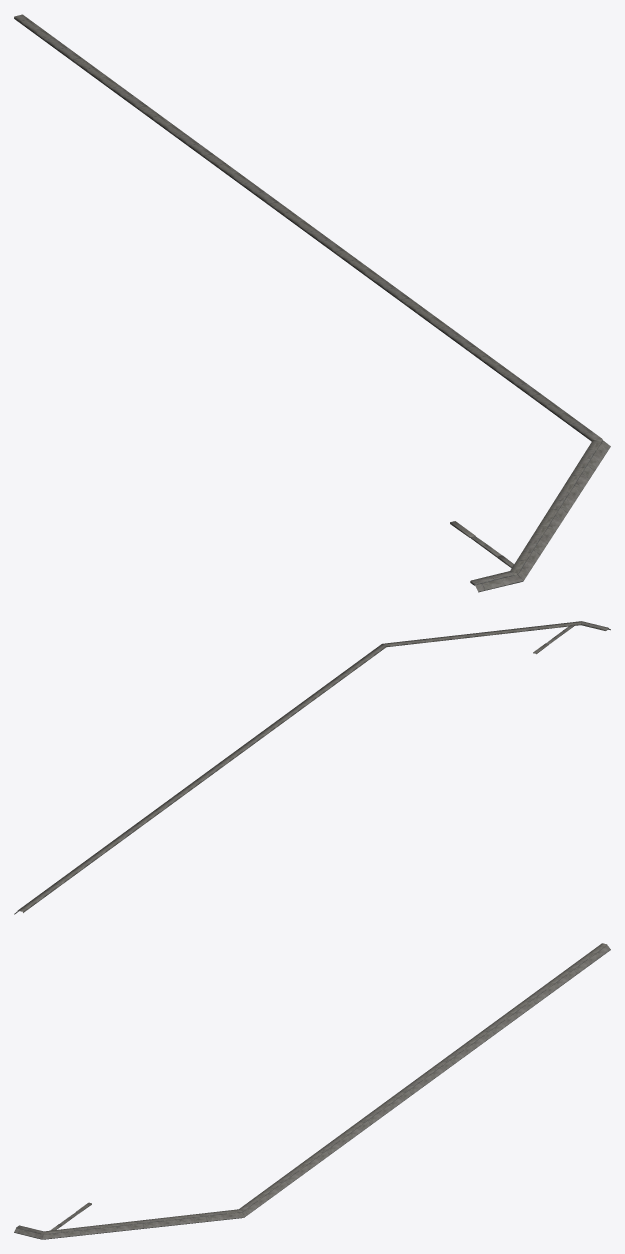
File: SM_ENV_LKNVLD_Ground_Hill_Right_HillSideTrim_03.FBX
3 views of the same model, one above another, from view 1: azimuth 30°, elevation 25°; view 2: azimuth 150°, elevation 25°; view 3: azimuth 330°, elevation 25° (orthographic). The views are drawn at different scales.
Visible parts, largest first — view 1: SM_ENV_LKNVLD_Ground_Hill_Right_HillSideTrim_03; view 2: SM_ENV_LKNVLD_Ground_Hill_Right_HillSideTrim_03; view 3: SM_ENV_LKNVLD_Ground_Hill_Right_HillSideTrim_03.
Part boxes in pixels (box(x1,y1,x2,y2)): SM_ENV_LKNVLD_Ground_Hill_Right_HillSideTrim_03: box(14, 14, 610, 592); SM_ENV_LKNVLD_Ground_Hill_Right_HillSideTrim_03: box(14, 621, 610, 914); SM_ENV_LKNVLD_Ground_Hill_Right_HillSideTrim_03: box(14, 943, 610, 1239).
Bounding box in the file's own units: 2263 × 68.92 × 10975.
